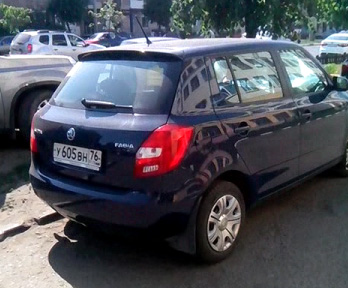car license plate: (52, 140, 103, 177)
